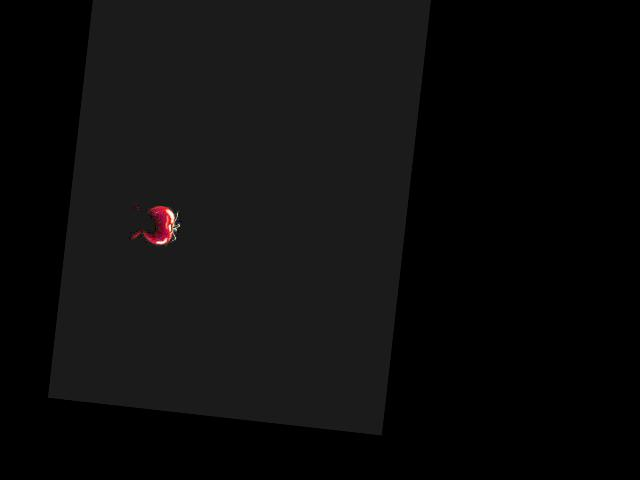tomato: (142, 204, 177, 245)
